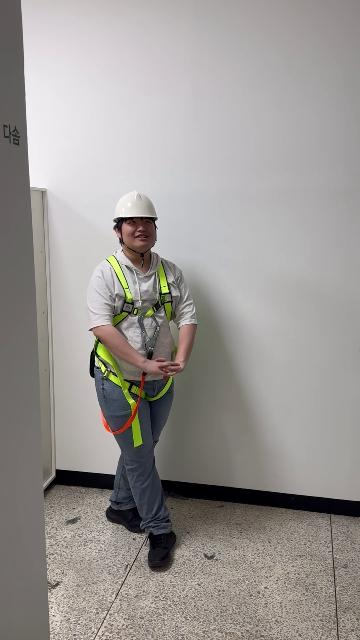helmet_worn: (112, 190, 159, 223)
shoe_not_worn: (147, 529, 176, 568), (105, 504, 144, 533)
vest_worn: (88, 257, 179, 439)
